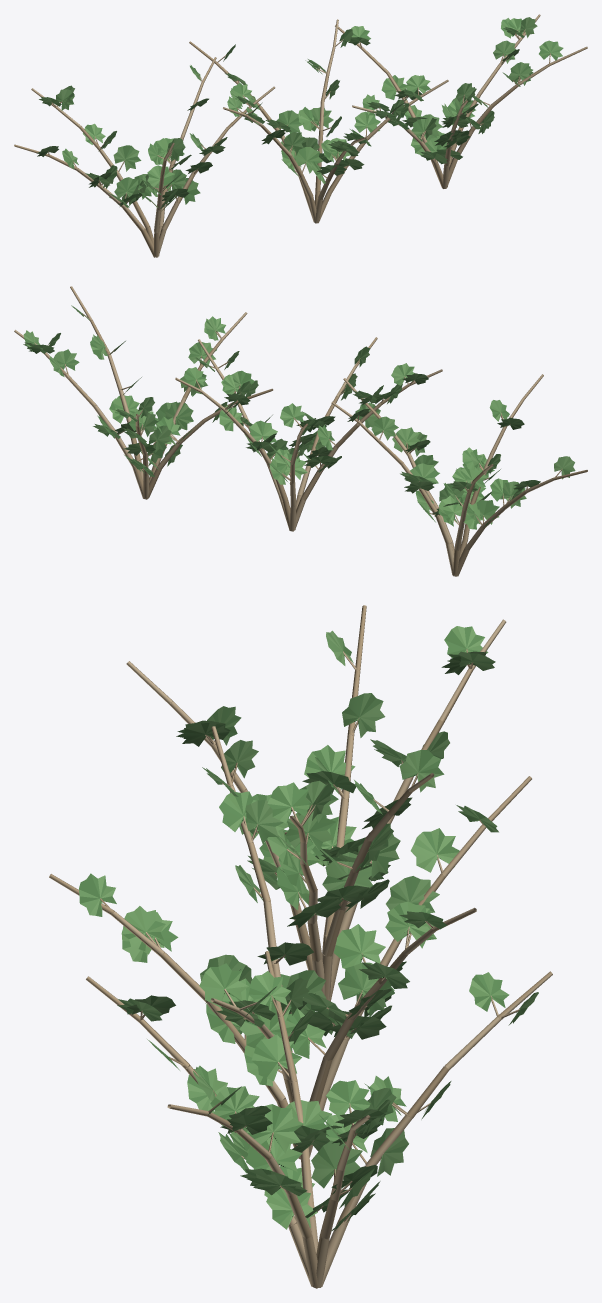
File: groseillier_feuilles.glb
The picture shows the model from 3 angles, top to bottom: view 1: azimuth 30°, elevation 25°; view 2: azimuth 150°, elevation 25°; view 3: azimuth 270°, elevation 25°; orthographic projection. The views are drawn at different scales.
Parts seen in each view (by area): view 1: Groseillier_Feuilles, Groseillier_Tiges; view 2: Groseillier_Feuilles, Groseillier_Tiges; view 3: Groseillier_Feuilles, Groseillier_Tiges.
Part boxes in pixels (left/top/right/bottom): Groseillier_Feuilles: left=37, top=17, right=563, bottom=211; Groseillier_Tiges: left=14, top=14, right=587, bottom=257; Groseillier_Feuilles: left=23, top=305, right=575, bottom=529; Groseillier_Tiges: left=14, top=286, right=587, bottom=576; Groseillier_Feuilles: left=78, top=626, right=538, bottom=1231; Groseillier_Tiges: left=49, top=605, right=552, bottom=1288.
Bounding box in the file's own units: 2.58 × 0.7497 × 1.07.
